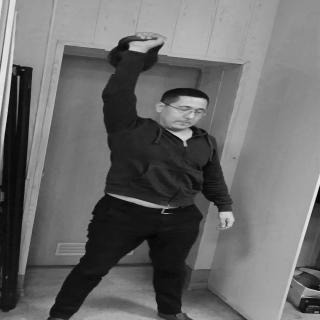kettlebell: (105, 36, 170, 75)
